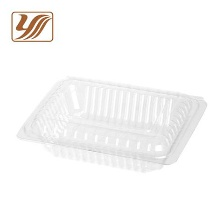plastic_box: (8, 68, 214, 180)
